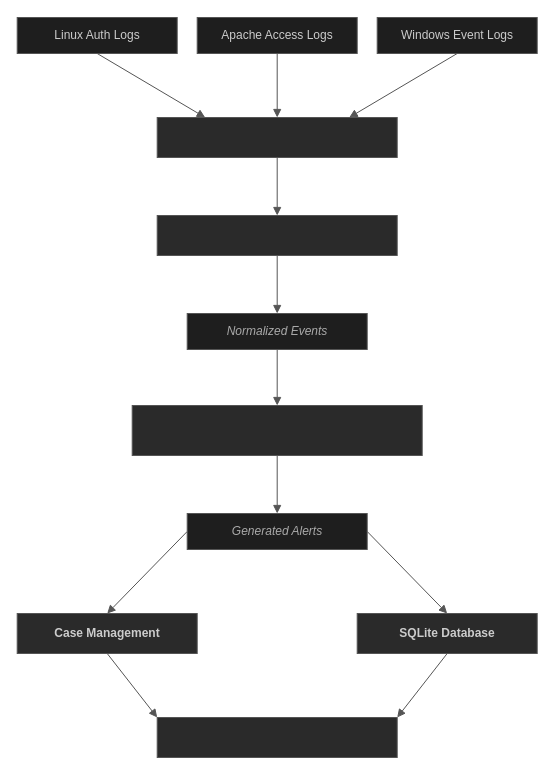
The diagram is 555 pixels wide and 775 high, and some of its shapes have lost their labels. Each missing label, with the centre of its shape:
"Detection Engine SSH Brute Force · Off-Hours Login · Web Scanning · Malicious IP" belongs at pixel 276 430.
"Flask SOC Dashboard" belongs at pixel 276 737.
"Log Ingestion Layer" belongs at pixel 276 137.
"Parsing & Normalization" belongs at pixel 276 235.
